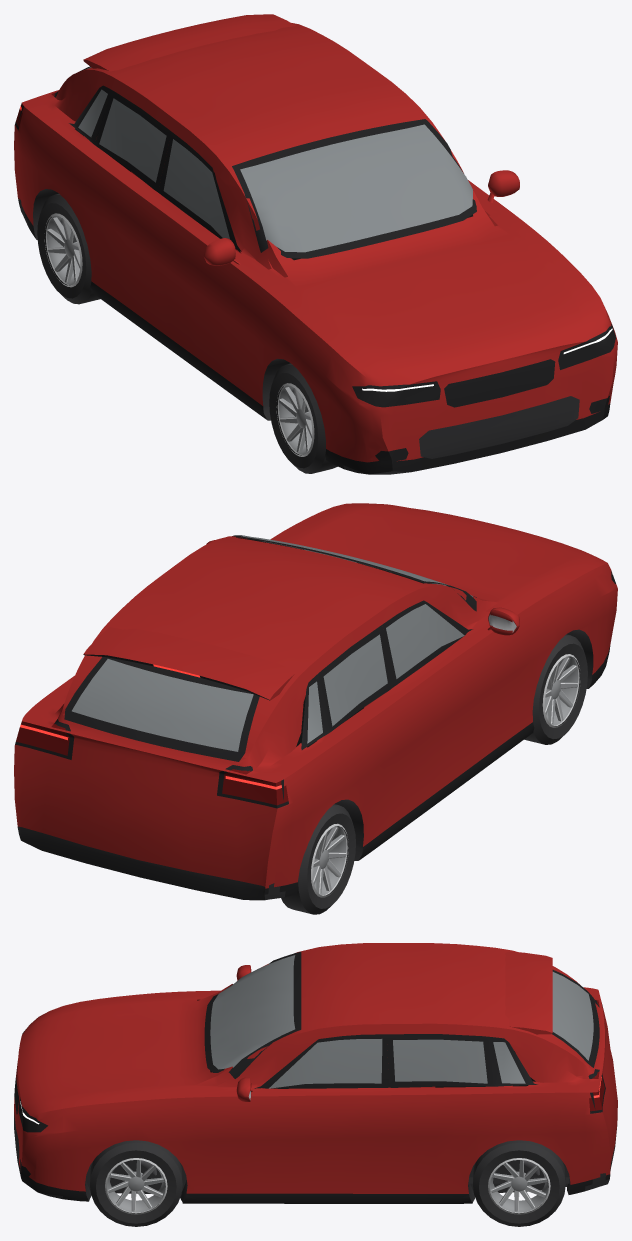
File: traffic-hatch.glb
3 renders of one model, top to bottom at view 1: azimuth 30°, elevation 25°; view 2: azimuth 150°, elevation 25°; view 3: azimuth 270°, elevation 25°, orthographic. The views are drawn at different scales.
Parts seen in each view (by area): view 1: body, glass_windshield, glass_side_R, wheel_FR_mesh, wheel_RR_mesh, spoiler, mirror_L, mirror_R; view 2: body, glass_rear, glass_side_R, spoiler, wheel_RR_mesh, wheel_FR_mesh, glass_windshield, mirror_R; view 3: body, glass_side_L, glass_windshield, wheel_FL_mesh, wheel_RL_mesh, spoiler, glass_rear.
Boxes of the visible parts, <box> form: body: <box>14,23,617,474</box>; glass_windshield: <box>232,119,476,258</box>; glass_side_R: <box>69,85,240,252</box>; wheel_FR_mesh: <box>269,363,337,473</box>; wheel_RR_mesh: <box>37,193,100,304</box>; spoiler: <box>83,14,295,71</box>; mirror_L: <box>487,170,519,202</box>; mirror_R: <box>203,238,240,265</box>; body: <box>14,503,617,900</box>; glass_rear: <box>64,657,259,761</box>; glass_side_R: <box>301,600,472,749</box>; spoiler: <box>83,627,295,700</box>; wheel_RR_mesh: <box>281,804,355,914</box>; wheel_FR_mesh: <box>524,634,587,744</box>; glass_windshield: <box>232,535,476,611</box>; mirror_R: <box>487,607,519,635</box>; body: <box>14,943,617,1203</box>; glass_side_L: <box>254,1034,537,1088</box>; glass_windshield: <box>204,952,301,1078</box>; wheel_FL_mesh: <box>89,1140,182,1226</box>; wheel_RL_mesh: <box>473,1140,565,1226</box>; spoiler: <box>505,951,552,1034</box>; glass_rear: <box>552,970,599,1067</box>.
Bounding box in the file's own units: 2.03 × 1.46 × 4.1.
